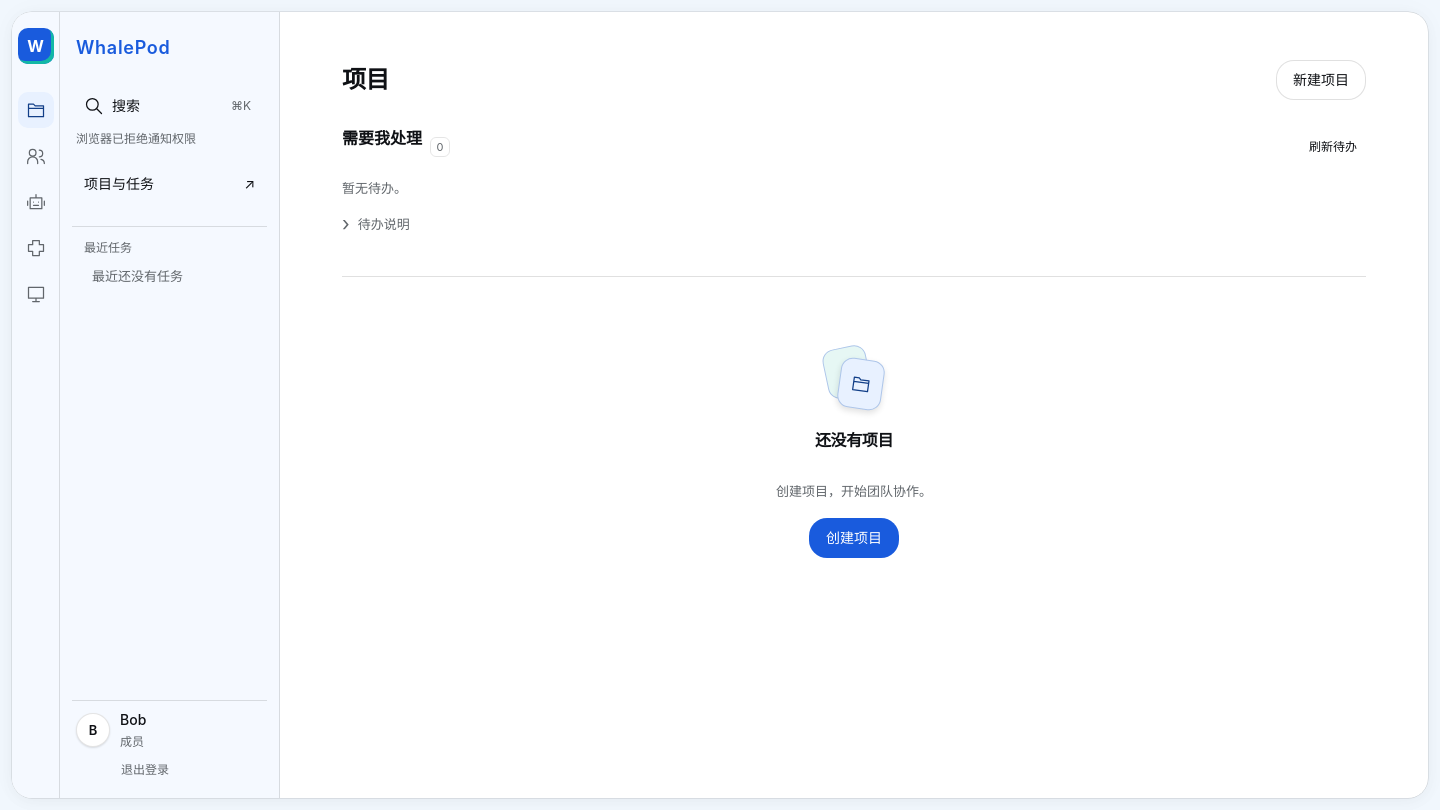
⌘K 全局搜索（#254） › 键盘路径：↑↓ 移动选中，Enter 直达第一个结果
The image size is (1440, 810).
Click the button "搜索 ⌘K" at (170, 106), box [72,86,267,126]
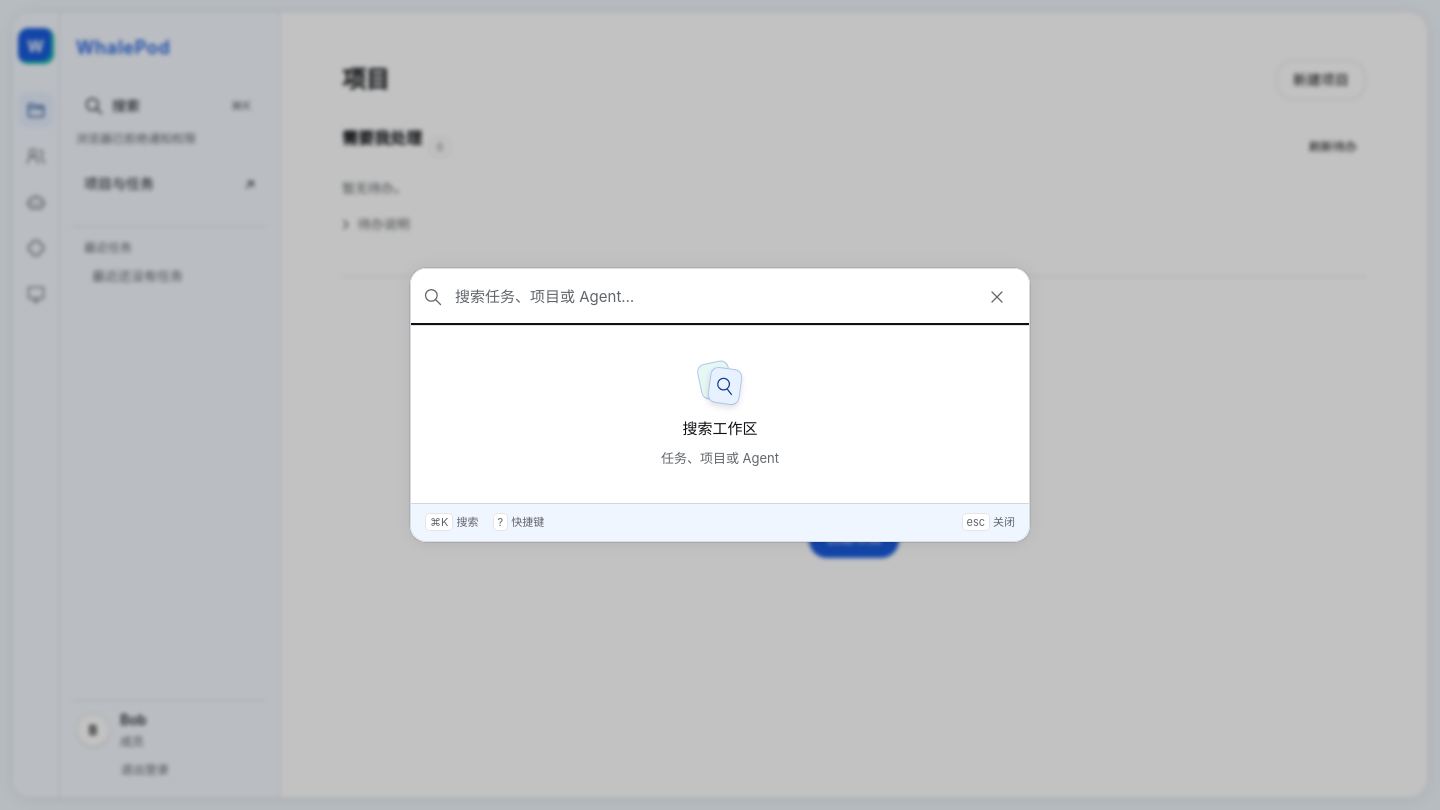
Type "*" into the field named "搜索关键词" at (710, 297), box [455,277,965,317]
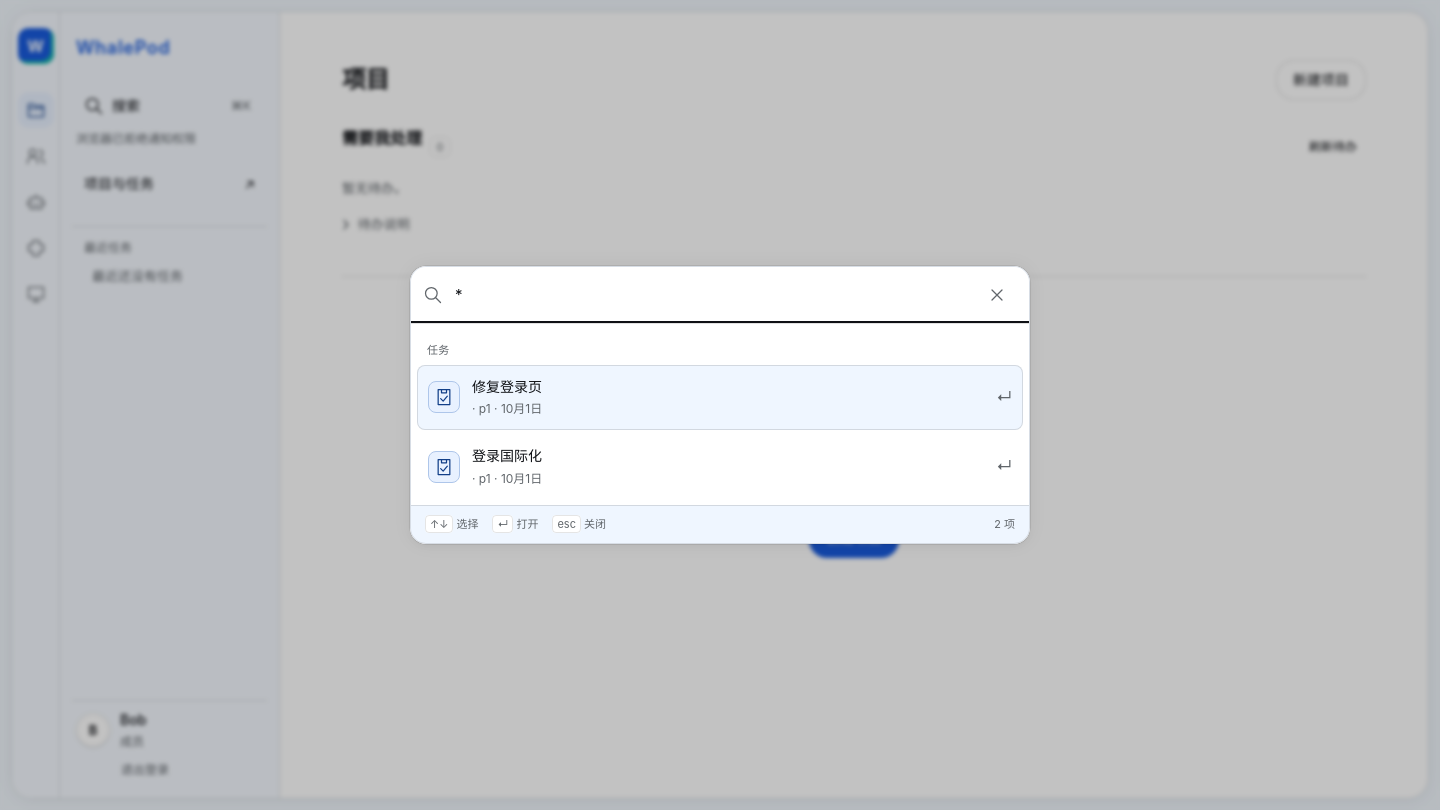
Expected: the option "登录国际化 · p1 · 10月1日 ↵" is shown, [417,434,1023,499]
Note: ↓ 选中第二项，Enter 直达它。
Type keys "{ArrowDown>}{/ArrowDown}"
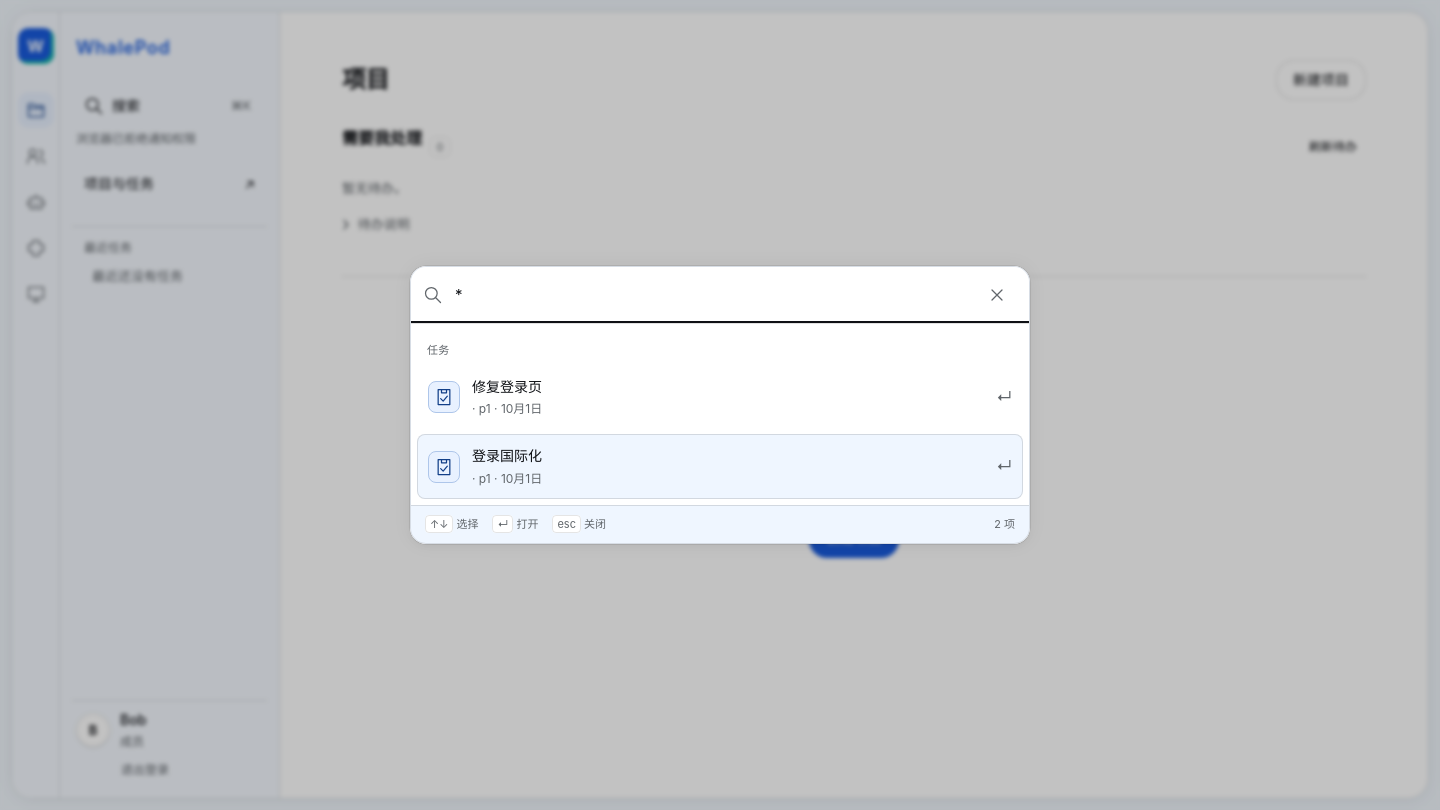
Press Enter
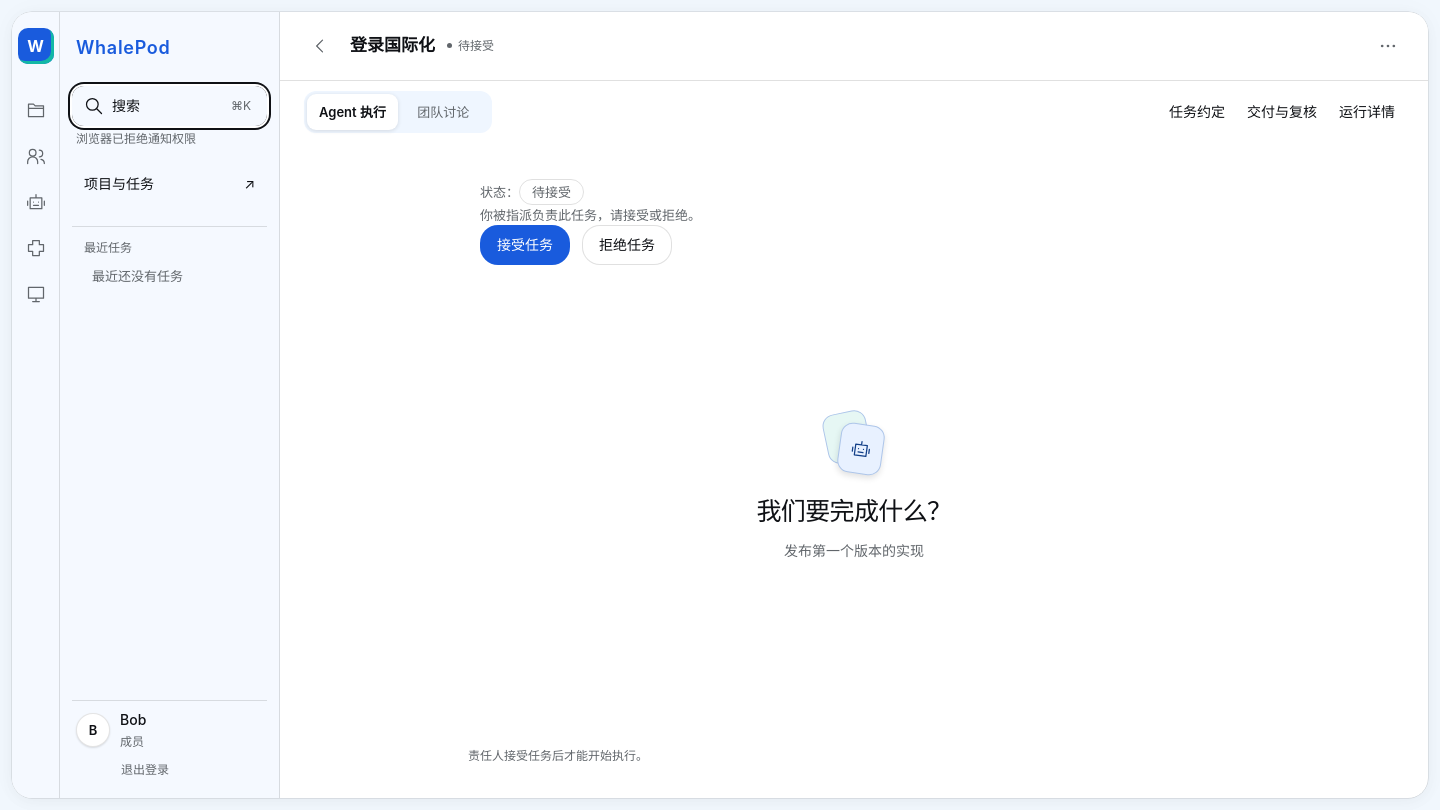
Expected: the heading "登录国际化" is shown, [350,34,435,58]
